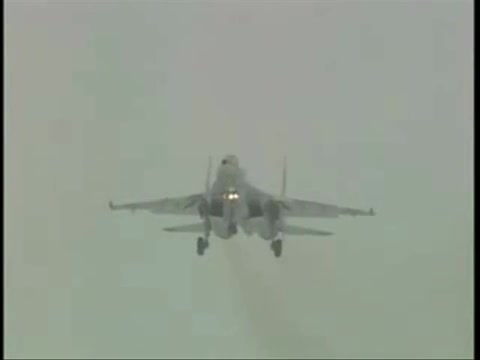aeroplane: (109, 154, 380, 260)
